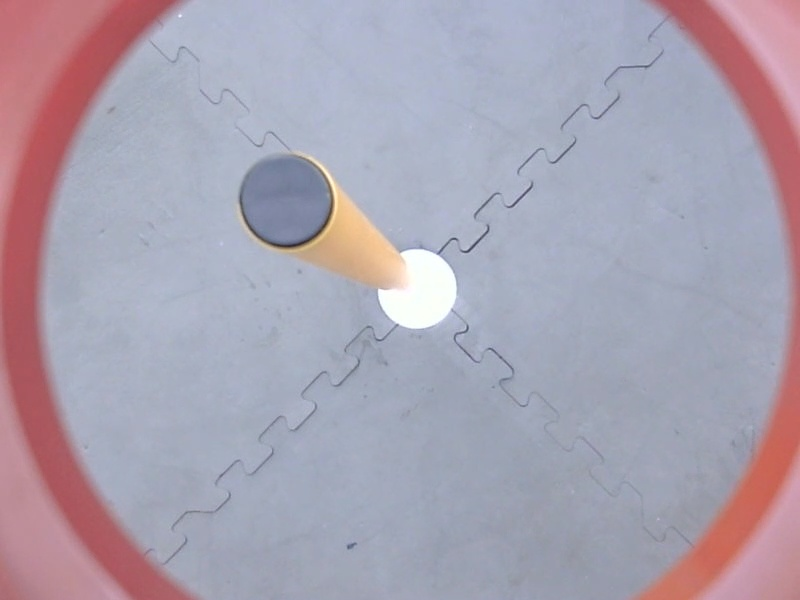tip: (230, 148, 345, 257)
